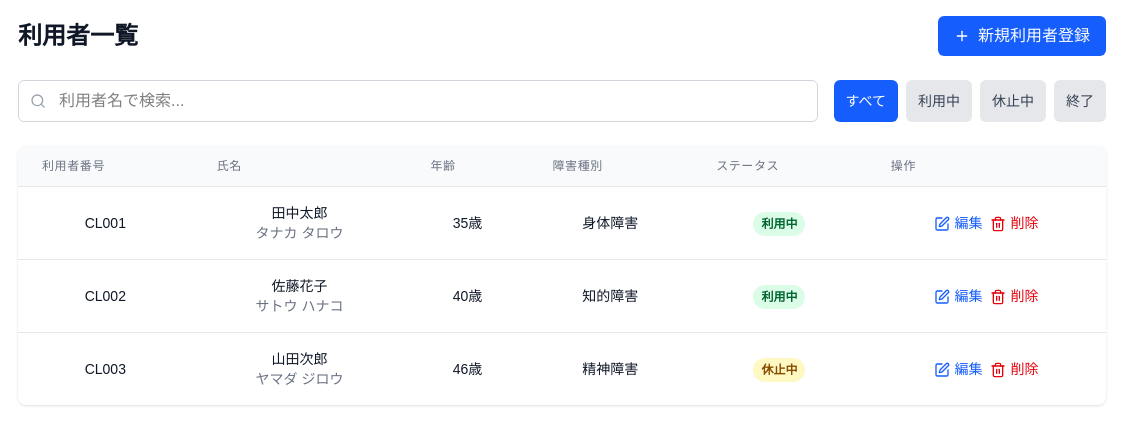
Test: ClientList › search functionality › shows no results message when search has no matches
The width and height of the screenshot is (1123, 423).
Type "存在しない名前" into the field with placeholder "利用者名で検索..." at point(418, 101), box [18,80,818,122]
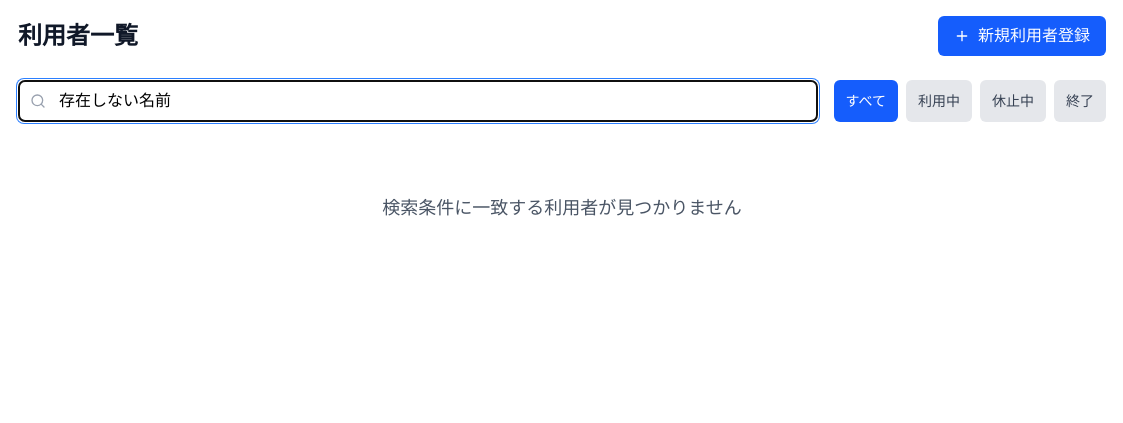
Result: the text "検索条件に一致する利用者が見つかりません" is shown at [382,198,742,218]
